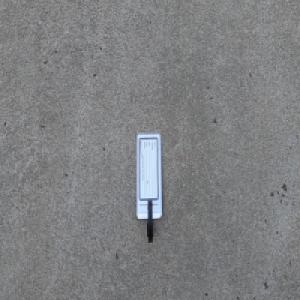LuggageTag: (135, 131, 163, 245)
